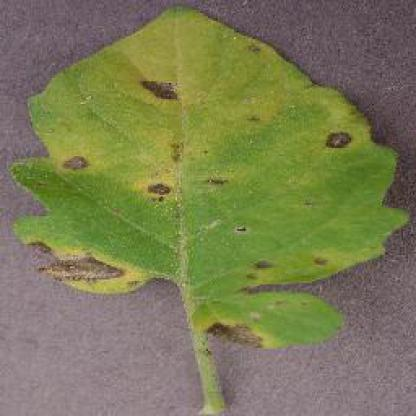bad leaf: (71, 47, 357, 330)
